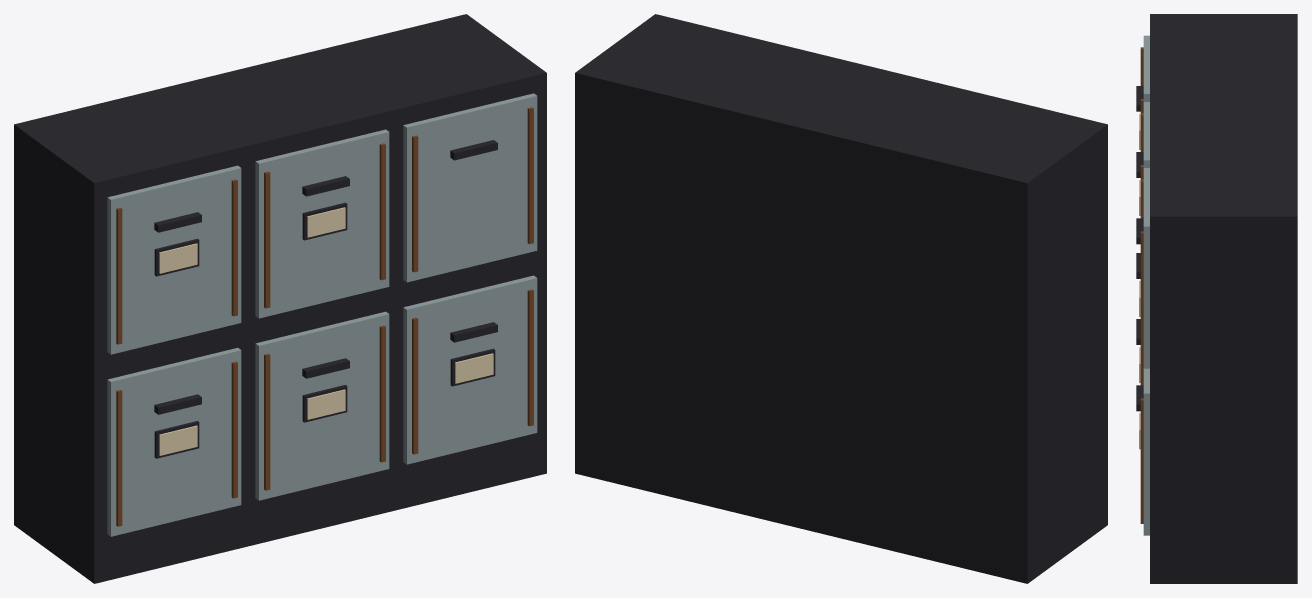
Rendered from mia-morgue.glb.
3 renders of one model, left to right at view 1: azimuth 30°, elevation 25°; view 2: azimuth 150°, elevation 25°; view 3: azimuth 270°, elevation 25°, orthographic. The views are drawn at different scales.
Visible parts, largest first — view 1: Body_iron, Body_steel, Body_rust, Body_page-light; view 2: Body_iron; view 3: Body_iron, Body_steel, Body_rust, Body_page-light.
Part boxes in pixels (<box>): Body_iron: <box>14,14,546,583</box>; Body_steel: <box>107,93,537,536</box>; Body_rust: <box>116,107,533,526</box>; Body_page-light: <box>159,207,493,455</box>; Body_iron: <box>575,14,1107,583</box>; Body_iron: <box>1136,14,1297,583</box>; Body_steel: <box>1143,35,1149,535</box>; Body_rust: <box>1140,47,1143,523</box>; Body_page-light: <box>1139,114,1140,449</box>.
Size of the model in its own units: 2.6 by 2.2 by 0.8745.
